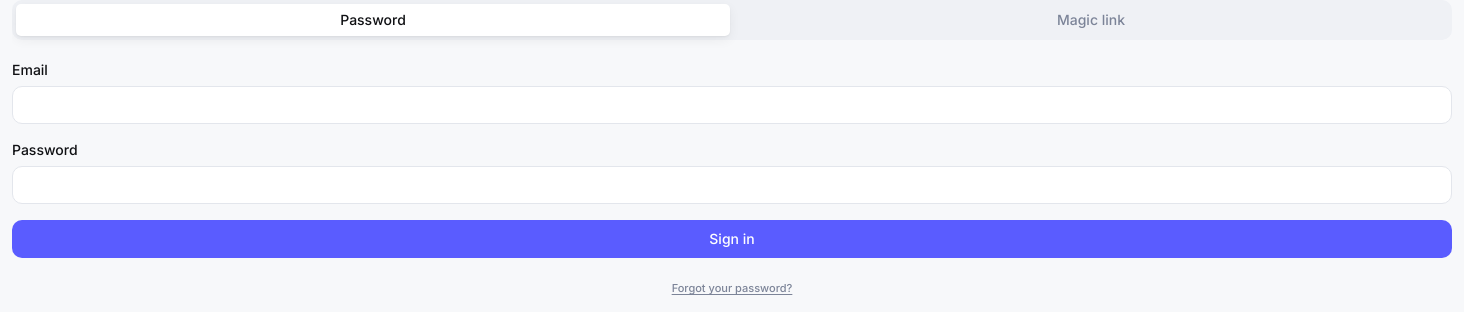
Scenario: sign-in form › magic-link mode is reachable and offers only an email field
The width and height of the screenshot is (1464, 312).
What coordinates should you click on to do the following:
click the tab "Magic link"
I would click on:
 (1091, 20)
Its box is [734,4,1448,36].
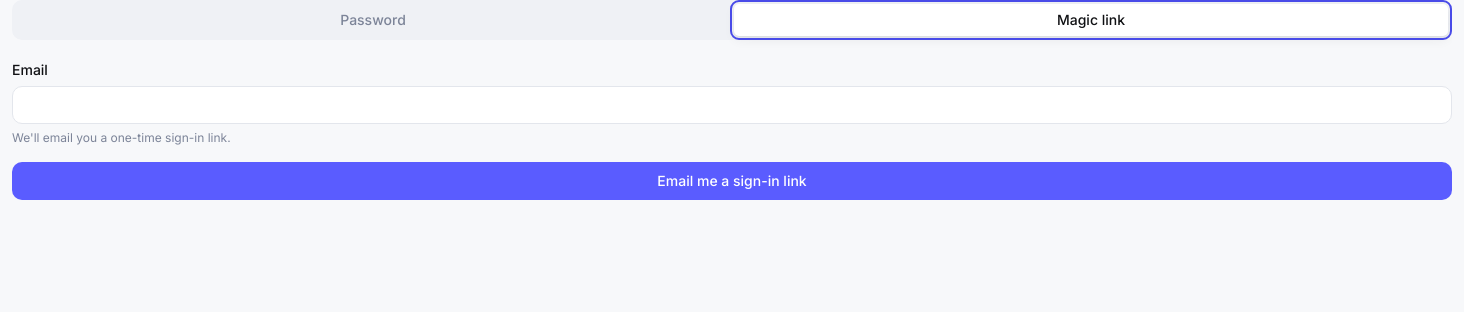
Check: the field labelled "Email" is shown, box [12,86,1452,124]
Check: the button "Email me a sign-in link" is shown, box [12,162,1452,200]
